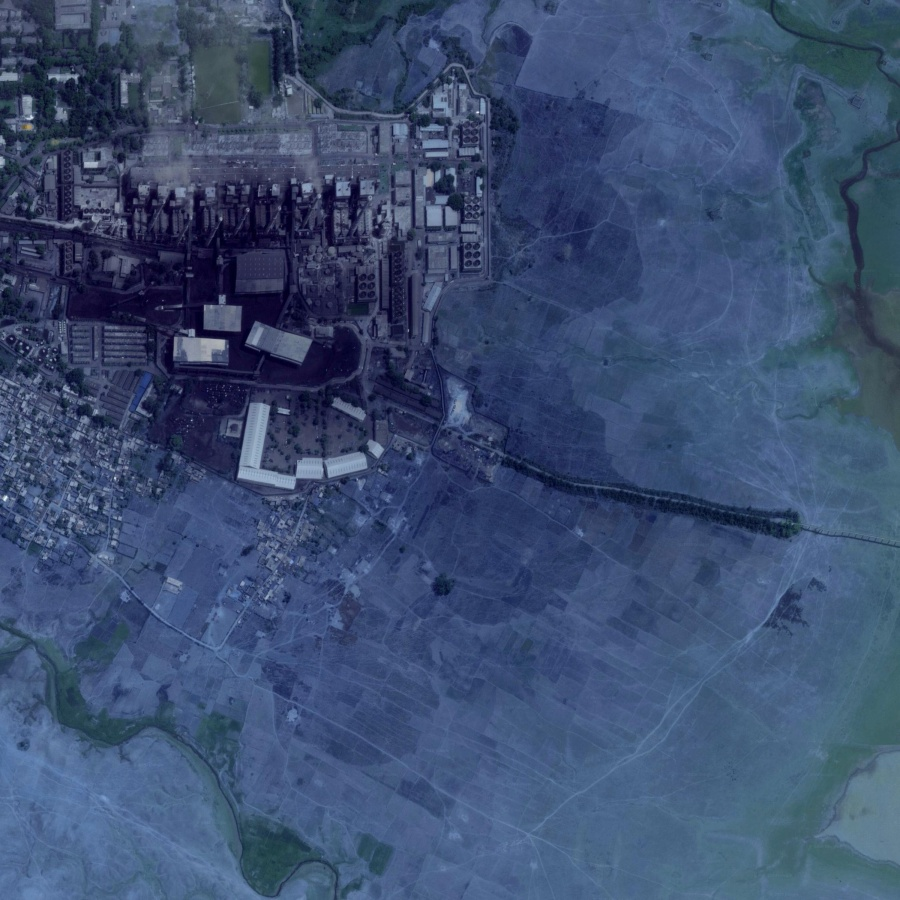PowerPlant: (68, 45, 491, 395)
